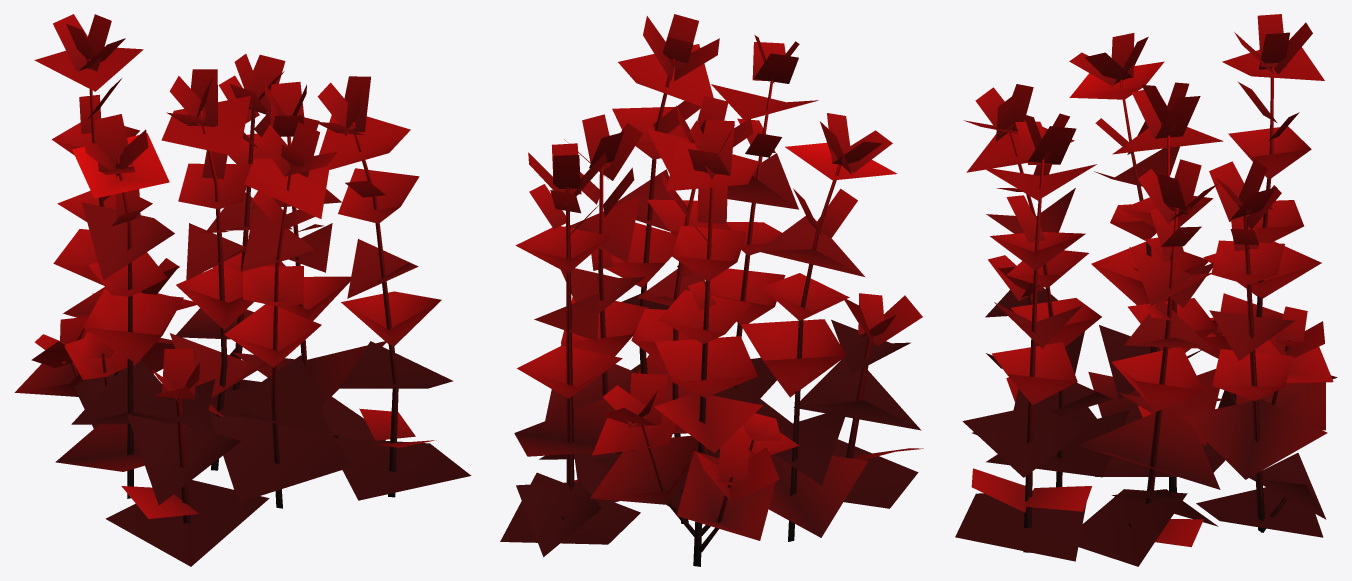
The model's file is G_Euonymus_001_S1.FBX.
3 views of the same model, side by side, from view 1: azimuth 30°, elevation 25°; view 2: azimuth 150°, elevation 25°; view 3: azimuth 270°, elevation 25° (orthographic). The views are drawn at different scales.
Visible parts, largest first — view 1: G_Euonymus_001_S1_P01_LOD0; view 2: G_Euonymus_001_S1_P01_LOD0; view 3: G_Euonymus_001_S1_P01_LOD0.
Part boxes in pixels (x1,y1,x2,y2): G_Euonymus_001_S1_P01_LOD0: [14, 14, 471, 566]; G_Euonymus_001_S1_P01_LOD0: [500, 14, 923, 566]; G_Euonymus_001_S1_P01_LOD0: [955, 14, 1337, 566].
Size of what is drawn, in the model's own units: 126 by 159 by 125.
